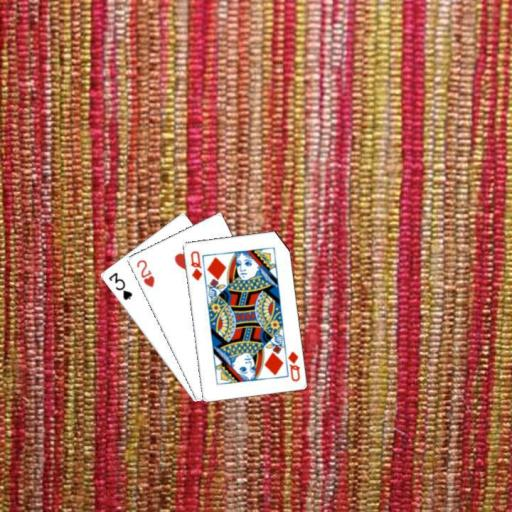2H: (133, 256, 156, 289)
3S: (105, 270, 134, 302)
QD: (285, 348, 302, 383), (187, 248, 203, 283)
